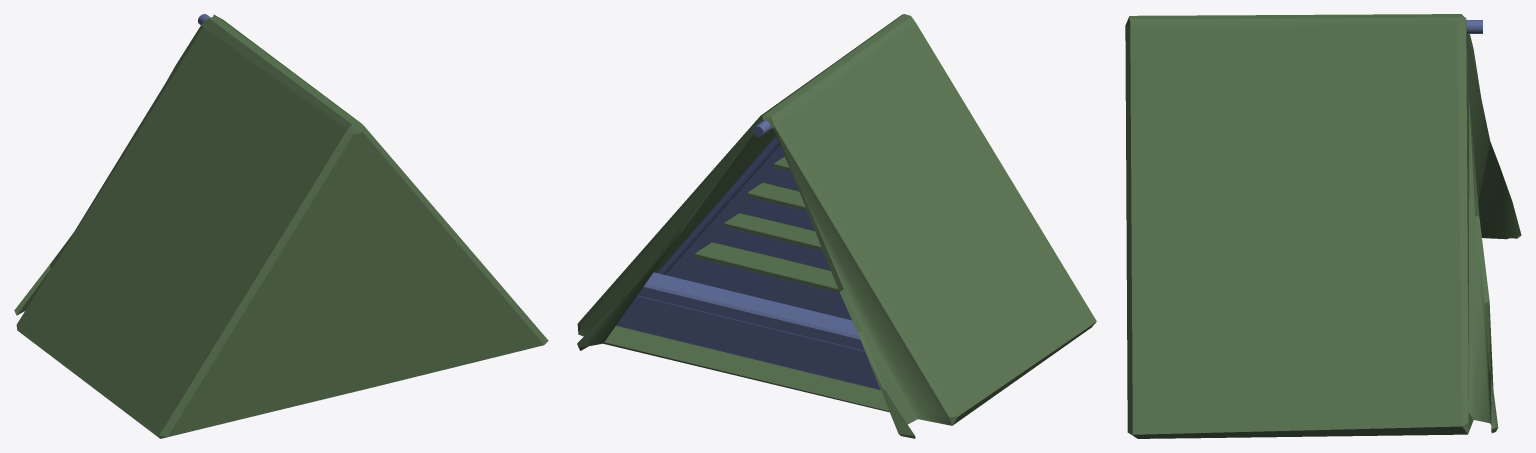
Rendered from Mainstand.fbx.
The picture shows the model from 3 angles, left to right: view 1: azimuth 30°, elevation 25°; view 2: azimuth 150°, elevation 25°; view 3: azimuth 270°, elevation 25°; orthographic projection. The views are drawn at different scales.
Visible parts, largest first — view 1: pCube5; view 2: pCube5, pasted__Backwall, pasted__Frontwalldown, pasted__counter, pasted__shelve3, pasted__shelve2, pasted__pasted__pCylinder1, pasted__shelve1; view 3: pCube5.
Boxes of the visible parts, x1,y1,x2,y2 form: pCube5: (14,14,548,438); pCube5: (577,14,1096,438); pasted__Backwall: (665,145,851,320); pasted__Frontwalldown: (616,296,880,390); pasted__counter: (637,272,865,351); pasted__shelve3: (694,242,839,293); pasted__shelve2: (724,213,823,251); pasted__pasted__pCylinder1: (657,136,779,274); pasted__shelve1: (747,183,806,211); pCube5: (1125,14,1521,438).
Bounding box in the file's own units: 1.56 × 1.04 × 1.18.
